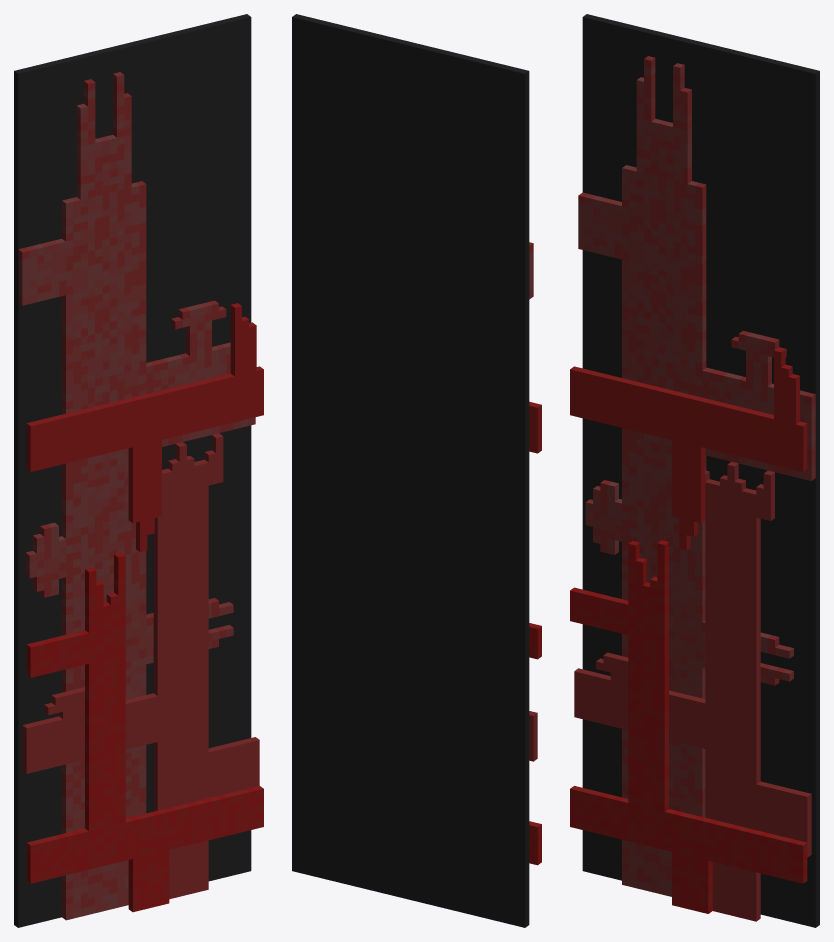
Rendered from scene_factory.glb.
The picture shows the model from 3 angles, left to right: view 1: azimuth 30°, elevation 25°; view 2: azimuth 150°, elevation 25°; view 3: azimuth 330°, elevation 25°; orthographic projection.
Visible parts, largest first — view 1: scene_factory_77, scene_factory_76, scene_factory_74, scene_factory_75; view 2: scene_factory_77, scene_factory_74; view 3: scene_factory_77, scene_factory_76, scene_factory_74, scene_factory_75.
Boxes of the visible parts, left/top/right/bottom form: scene_factory_77: left=14, top=14, right=251, bottom=927; scene_factory_76: left=18, top=72, right=255, bottom=920; scene_factory_74: left=26, top=303, right=263, bottom=912; scene_factory_75: left=22, top=433, right=259, bottom=899; scene_factory_77: left=292, top=14, right=529, bottom=927; scene_factory_74: left=529, top=401, right=541, bottom=865; scene_factory_77: left=582, top=14, right=819, bottom=927; scene_factory_76: left=578, top=56, right=815, bottom=896; scene_factory_74: left=570, top=347, right=807, bottom=913; scene_factory_75: left=574, top=461, right=811, bottom=921.
Size of the model in its own units: 3.2 by 11.2 by 0.4.
Materials: 4 (4 with a texture image).
